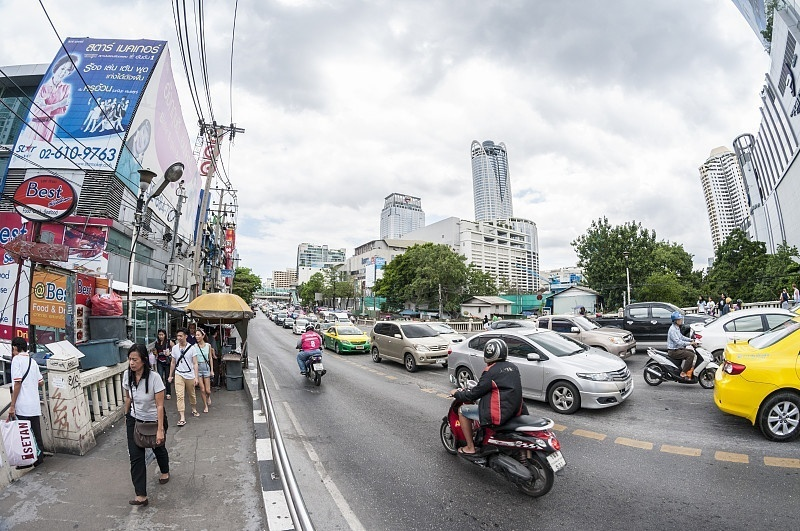non-vehicle: (439, 388, 560, 492), (644, 340, 717, 386), (298, 348, 321, 384)
